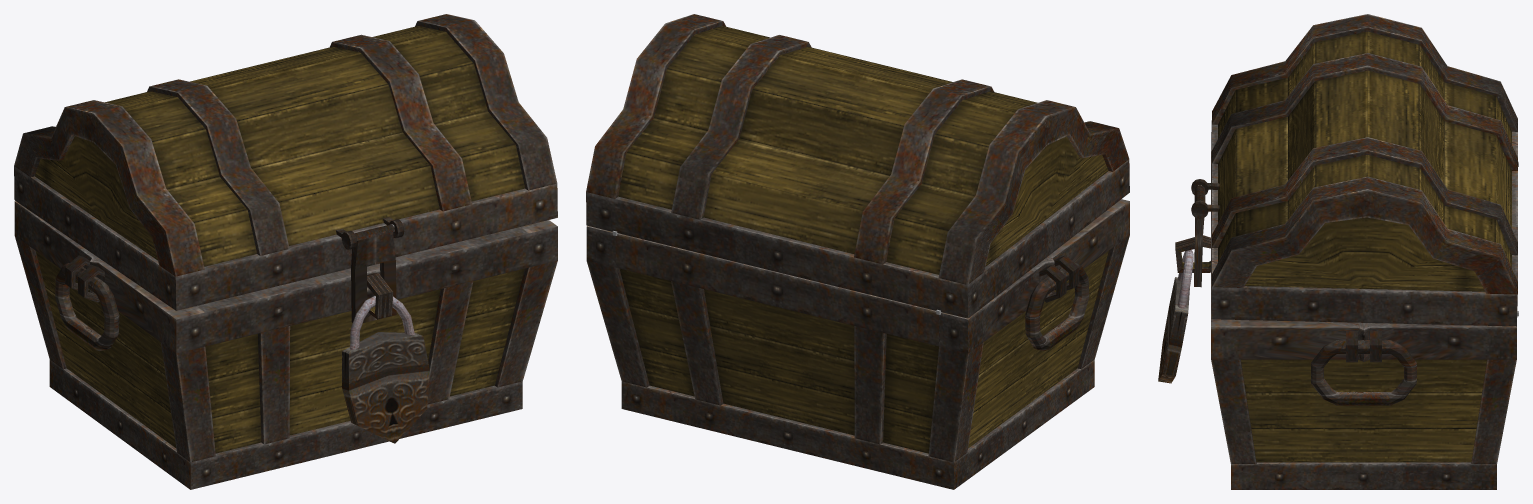
Rendered from Chest.fbx.
3 renders of one model, left to right at view 1: azimuth 30°, elevation 25°; view 2: azimuth 150°, elevation 25°; view 3: azimuth 270°, elevation 25°, orthographic. The views are drawn at different scales.
Parts seen in each view (by area): view 1: TOP, BASE, LOCK, HOLDER_1; view 2: TOP, BASE, HOLDER_1; view 3: TOP, BASE, LOCK, HOLDER_2.
Part boxes in pixels (x1,y1,x2,y2): TOP: [14, 14, 557, 310]; BASE: [14, 201, 557, 489]; LOCK: [342, 224, 429, 443]; HOLDER_1: [55, 263, 119, 351]; TOP: [586, 14, 1129, 318]; BASE: [586, 199, 1129, 489]; HOLDER_1: [1025, 263, 1089, 350]; TOP: [1191, 14, 1517, 326]; BASE: [1175, 151, 1516, 489]; LOCK: [1158, 185, 1205, 383]; HOLDER_2: [1311, 340, 1416, 405].
Bounding box in the file's own units: 129 × 95.72 × 101.
